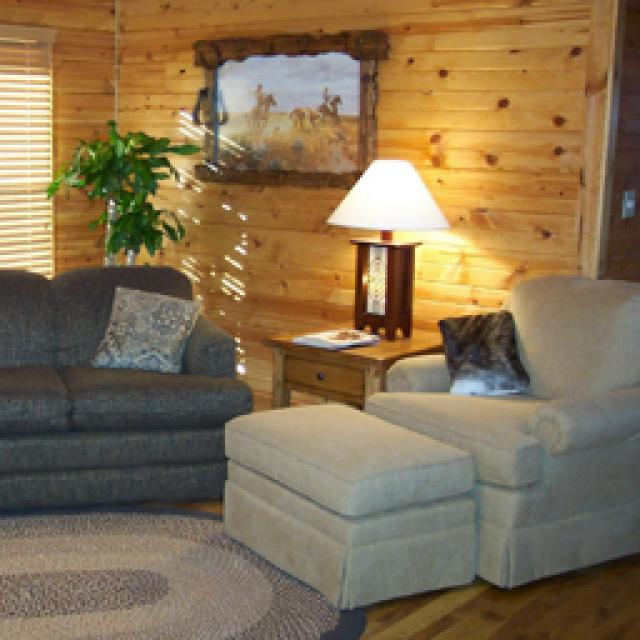2001: (0, 20, 55, 278)
armchair crop: (362, 272, 638, 582)
book case: (288, 320, 378, 350)
lamp crop: (315, 152, 442, 335)
ottoman: (212, 400, 478, 605)
painting crop: (190, 30, 390, 185)
pillow occluded: (90, 285, 195, 365), (432, 308, 528, 392)
plant -x: (40, 122, 198, 260)
rug -partially obscured-: (0, 512, 358, 635)
small table part: (265, 315, 438, 402)
sofa bed: (0, 260, 250, 510)
table leg: (318, 150, 445, 335)
wall outlets: (620, 185, 632, 212)
